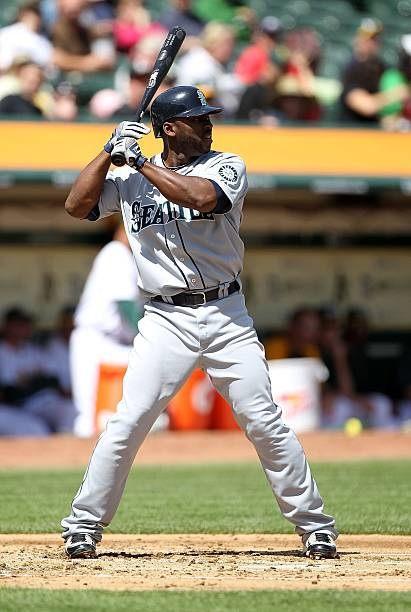bita: (124, 27, 183, 155)
